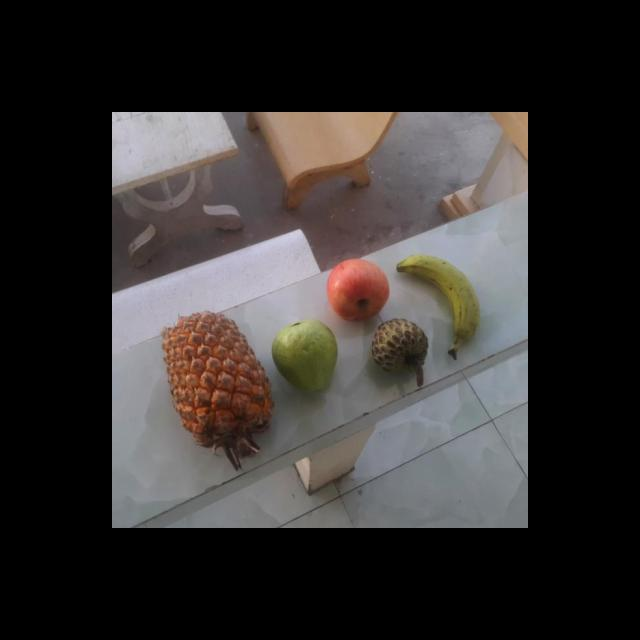Sakya fruit: (368, 316, 427, 379)
apple: (324, 258, 391, 324)
banana: (392, 253, 477, 350)
guava: (270, 322, 338, 392)
pineapple: (158, 310, 271, 446)
